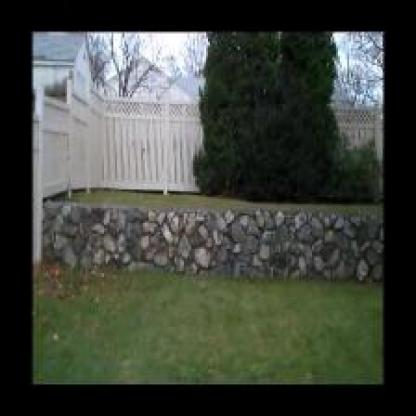other: (153, 43, 206, 90)
